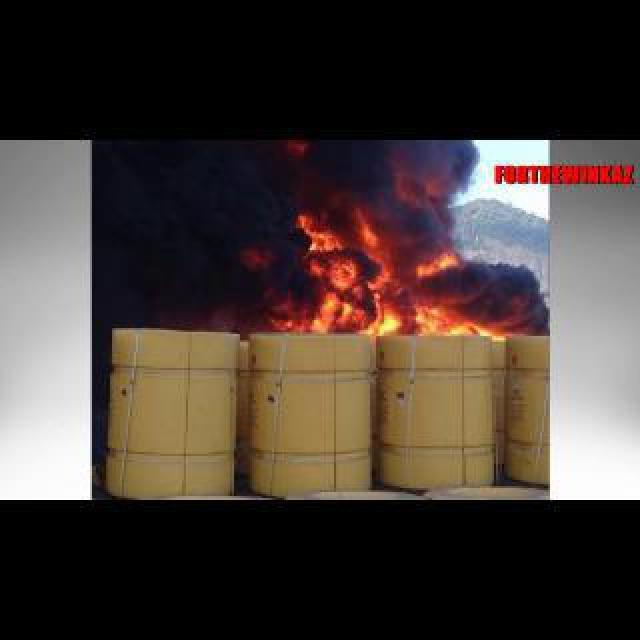fire: (268, 212, 512, 336)
